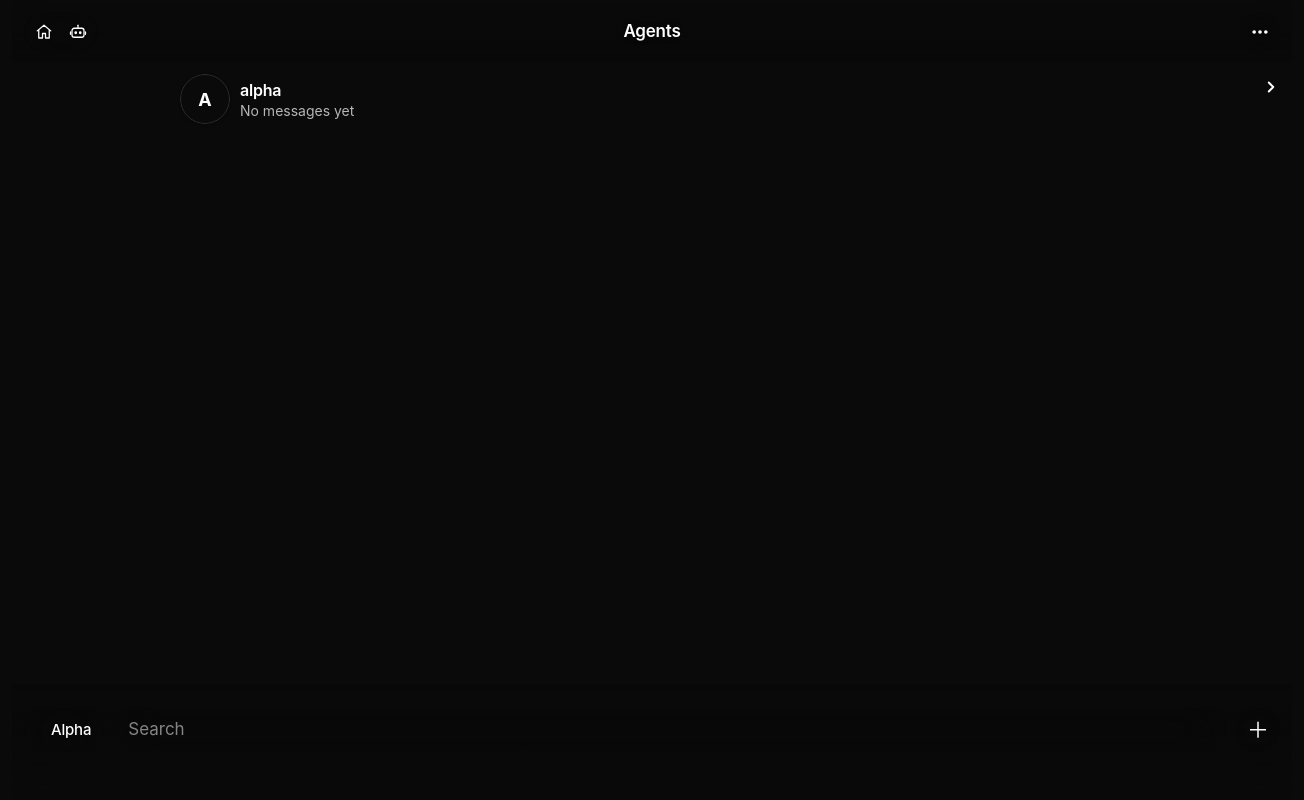
Test case: a person row on a saved server with no login › the agent rows' Sign in: that server's own sign-in (no switch); after it the row is live
Click the button with test id "list-tab-home": [44, 32] box [27, 15, 61, 49]
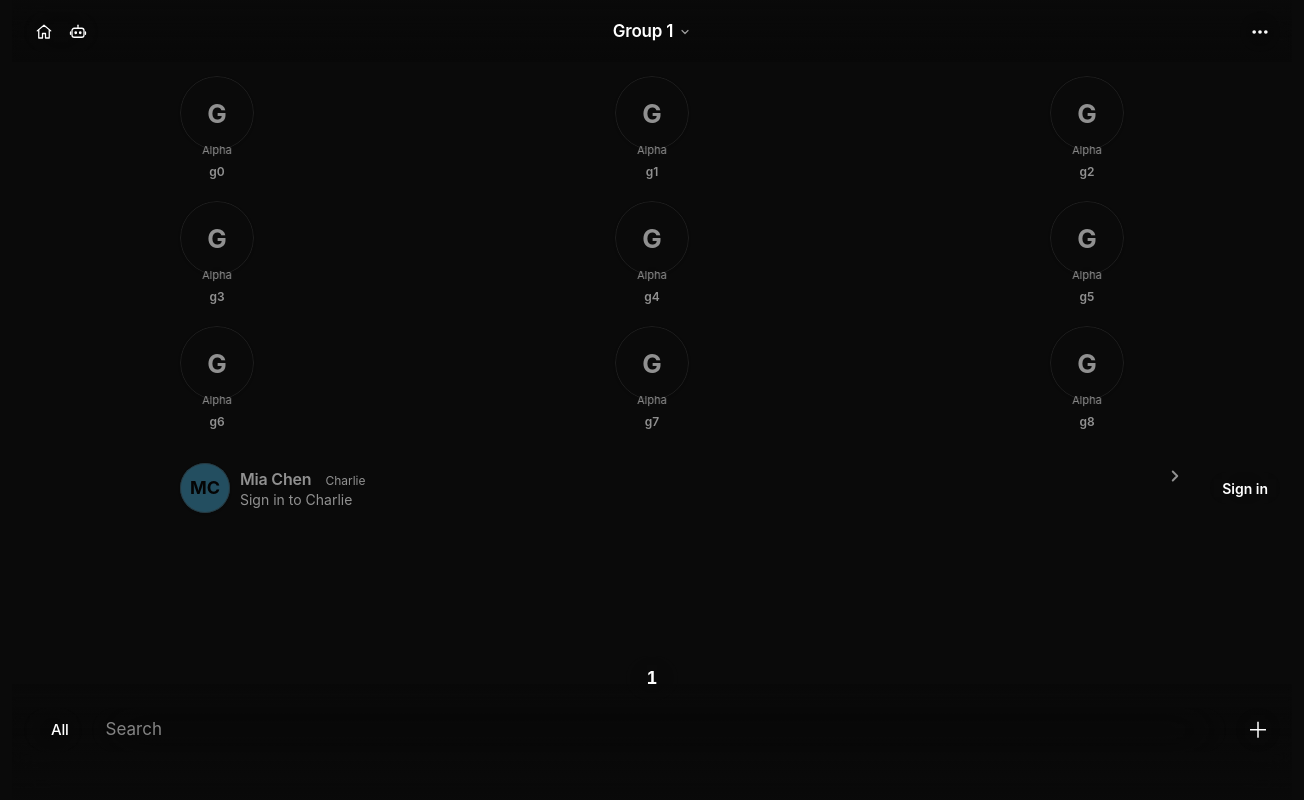
Check: the text with test id "row-failure" reads "Sign in to Charlie", box [240, 491, 352, 508]
Check: the button with test id "row-failure-action" reads "Sign in", box [1210, 472, 1280, 504]
Click the button with test id "home-chat-person-k2:connect:mia": [205, 488] box [12, 451, 1292, 525]
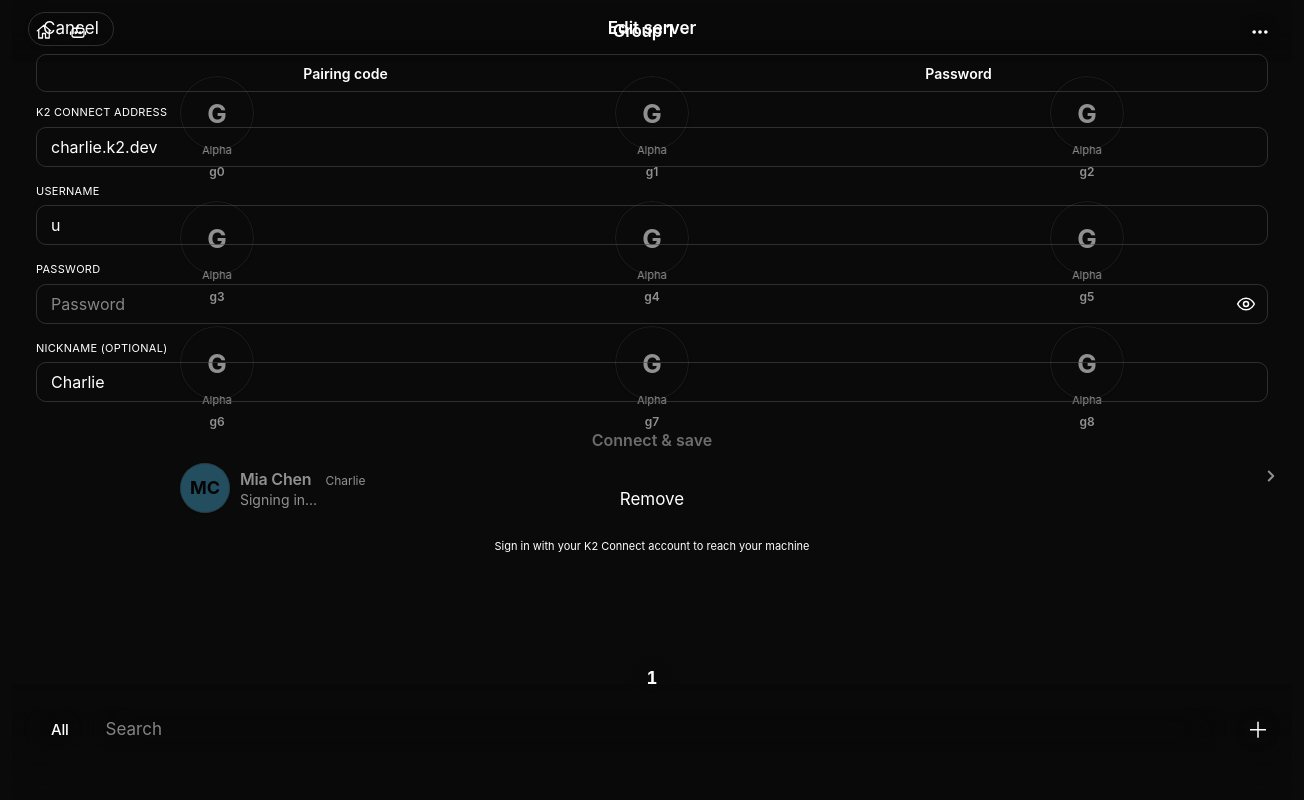
Check: the heading reads "Edit server", box [608, 18, 696, 38]
Check: the field showing "charlie.k2.dev" is shown, box [36, 126, 1268, 166]
Check: the text with test id "row-failure" reads "Signing in…", box [240, 491, 317, 508]
In the password field with placeholder "Password": [652, 304] box [36, 284, 1268, 324], type "pw"
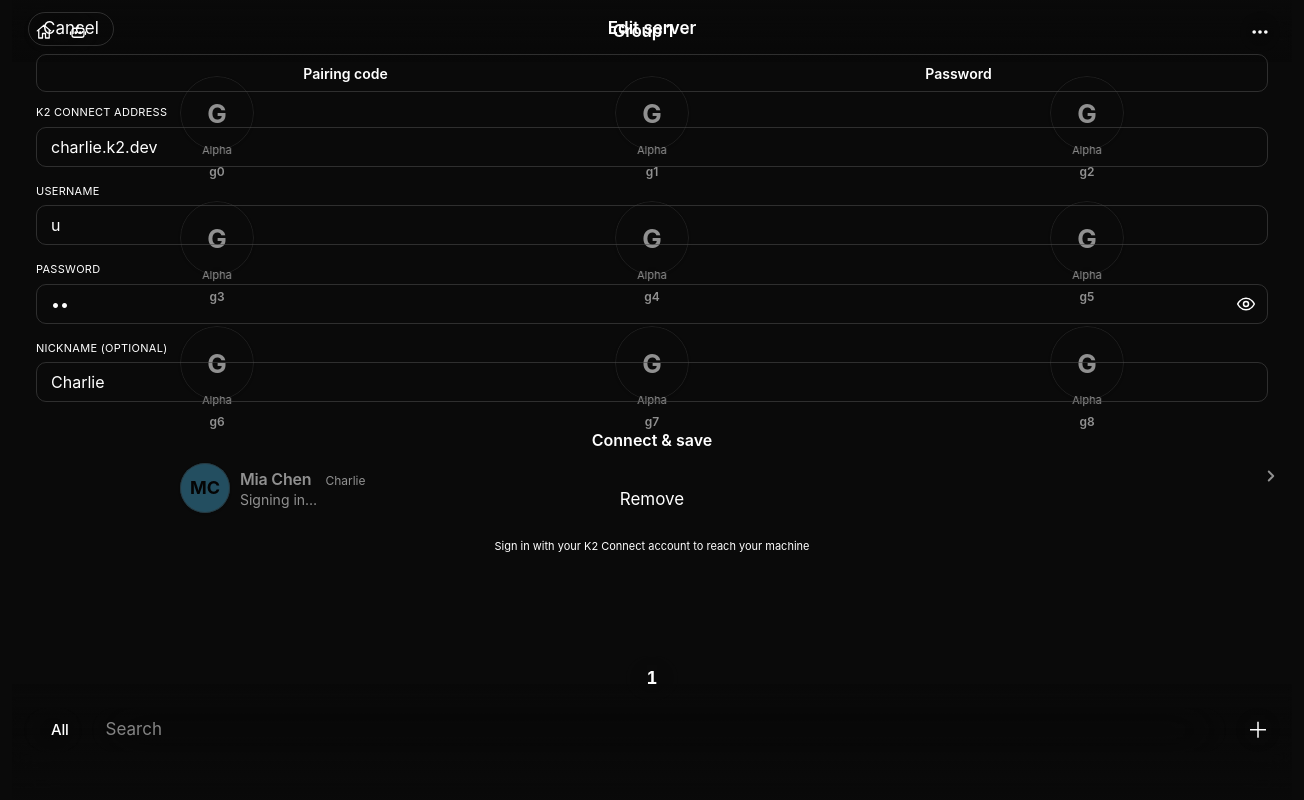
Click the button "Connect & save": [652, 440] box [36, 418, 1268, 462]
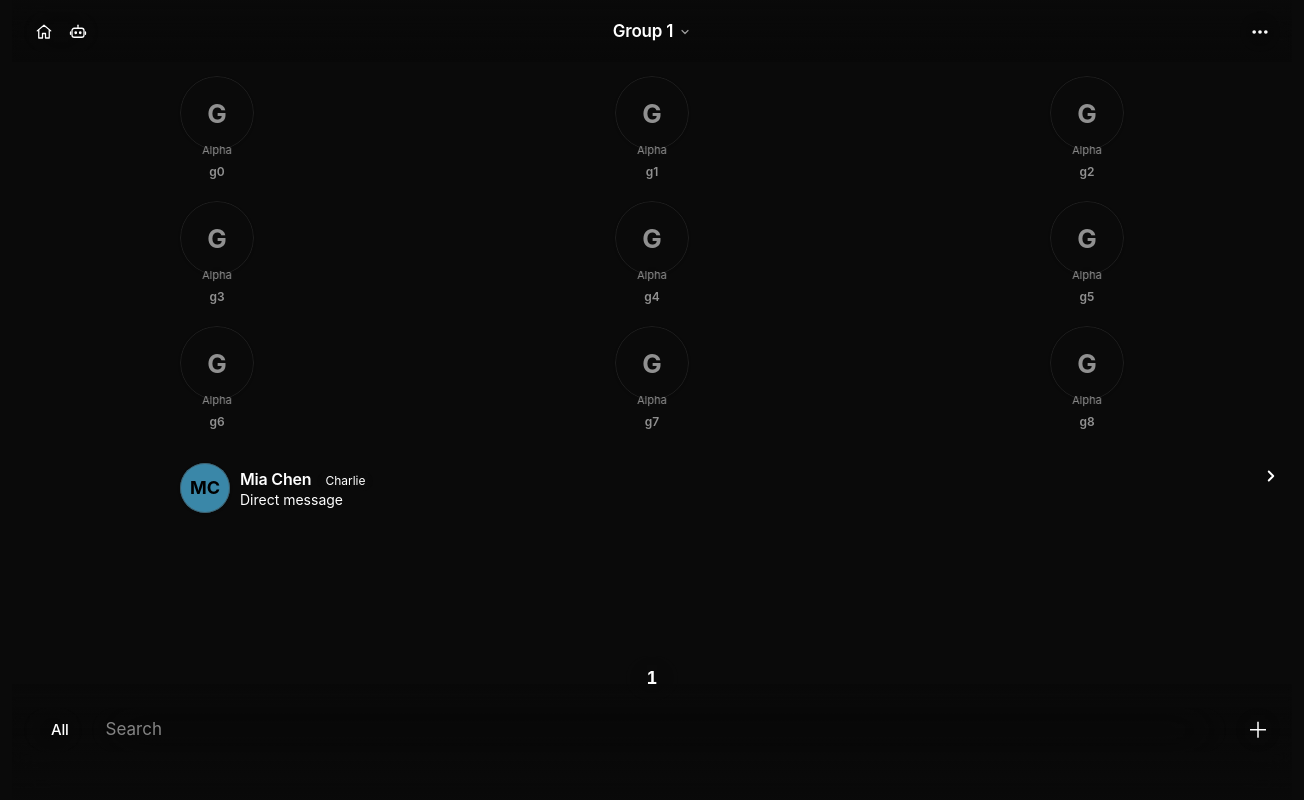
Check: the element with test id "row-sign-in" is gone
Check: the text with test id "row-failure" is gone
Check: the button with test id "home-chat-person-k2:connect:mia" shows "Direct message", box [12, 451, 1292, 525]
